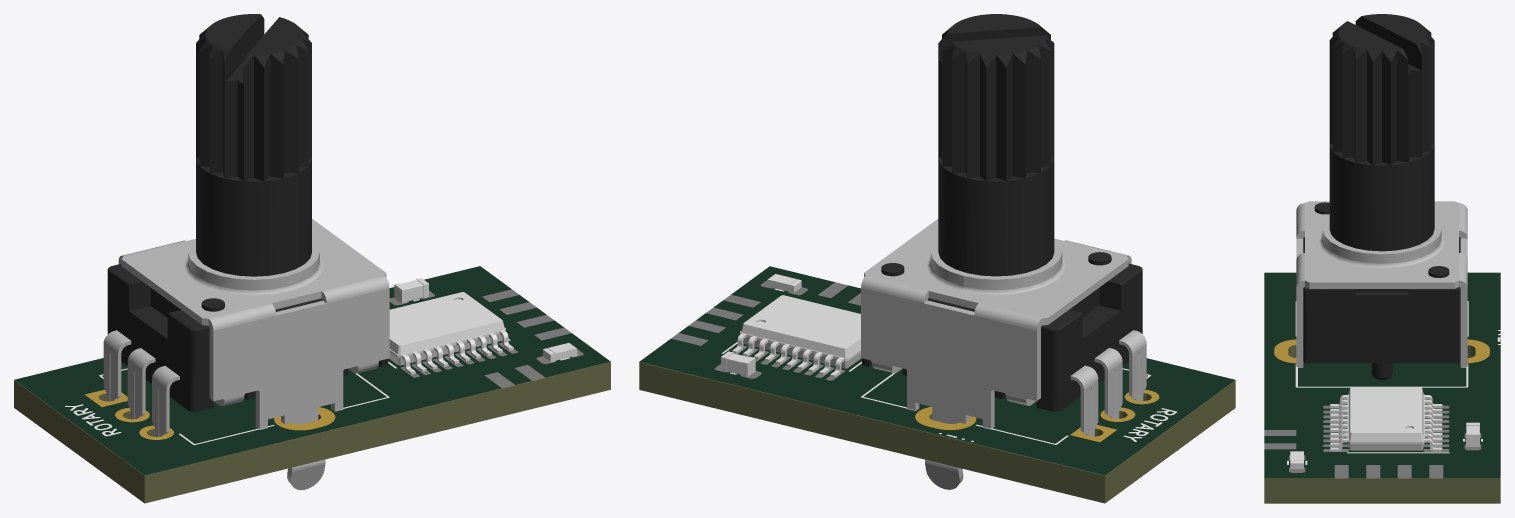
Rendered from REPLICATE_glue_potentiometer_rotary.glb.
3 renders of one model, left to right at view 1: azimuth 30°, elevation 25°; view 2: azimuth 150°, elevation 25°; view 3: azimuth 270°, elevation 25°, orthographic. The views are drawn at different scales.
Visible parts, largest first — view 1: Compound.011, Compound.015, Face.002, Compound.016, Compound.010, Compound.006, Face.001, Face, Compound.012, Compound.014, Compound.013, Face.005 (+1 smaller); view 2: Compound.011, Compound.015, Face.002, Compound.016, Compound.010, Compound.006, Face.001, Face, Compound.012, Compound.014, Compound.013, Face.005 (+1 smaller); view 3: Compound.015, Face.002, Compound.010, Compound.011, Compound.006, Compound.016, Face.001, Face.005, Face, Compound.004.
Part boxes in pixels (x1,y1,x2,y2): Compound.011: (118,219,389,490); Compound.015: (196,14,311,276); Face.002: (14,266,610,475); Compound.016: (14,362,610,503); Compound.010: (107,263,388,411); Compound.006: (389,292,513,374); Face.001: (389,289,583,388); Face: (85,378,542,439); Compound.012: (127,348,155,419); Compound.014: (103,330,131,401); Compound.013: (152,366,179,436); Face.005: (65,299,569,445); Compound.011: (861,219,1131,489); Compound.015: (938,14,1054,276); Face.002: (639,266,1235,475); Compound.016: (639,362,1235,503); Compound.010: (862,252,1142,411); Compound.006: (732,295,861,377); Face.001: (671,280,860,380); Face: (915,390,1159,442); Compound.012: (1094,348,1122,418); Compound.014: (1070,365,1098,436); Compound.013: (1119,330,1146,401); Face.005: (721,288,1176,444); Compound.015: (1329,14,1434,251); Face.002: (1264,272,1500,478); Compound.010: (1303,202,1460,379); Compound.011: (1296,201,1467,367); Compound.006: (1330,387,1442,451); Compound.016: (1264,339,1500,503); Face.001: (1264,405,1481,478); Face.005: (1287,301,1500,464); Face: (1274,339,1489,363); Compound.004: (1466,422,1479,446).
Size of the model in its own units: 27.8 by 23.8 by 13.5.
